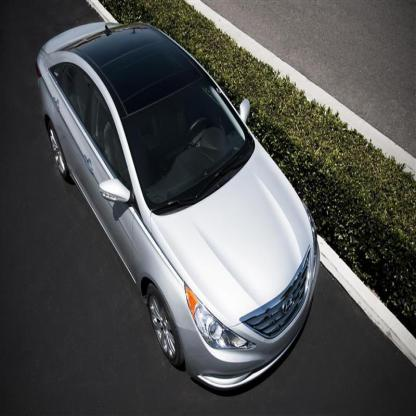car: (36, 24, 322, 396)
